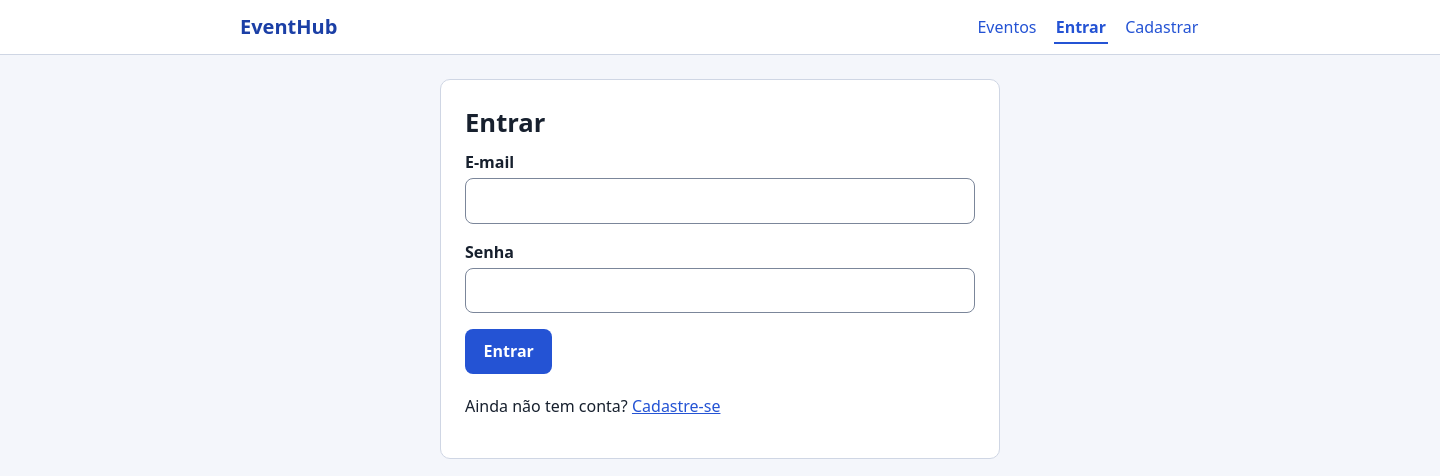
Test: Meus certificados › lista com o nome do evento (de Eventos, sem token), data de emissão e link do evento
Type "maria@example.com" into the field labelled "E-mail" at [720, 201], box [465,178,975,224]
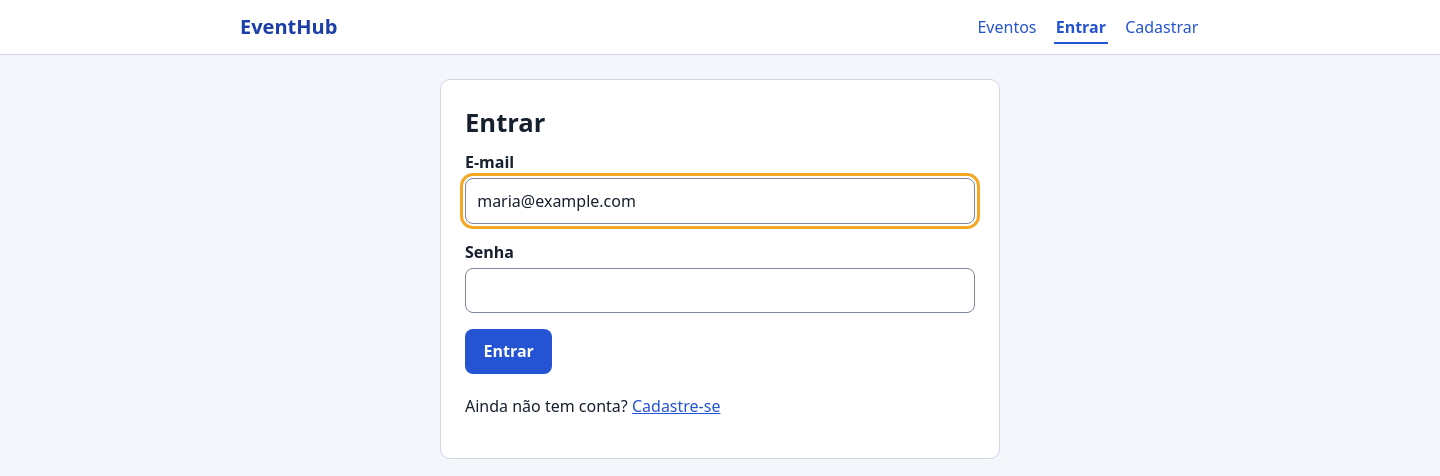
Type "senha-forte-123" into the password field labelled "Senha" at [720, 290], box [465,268,975,313]
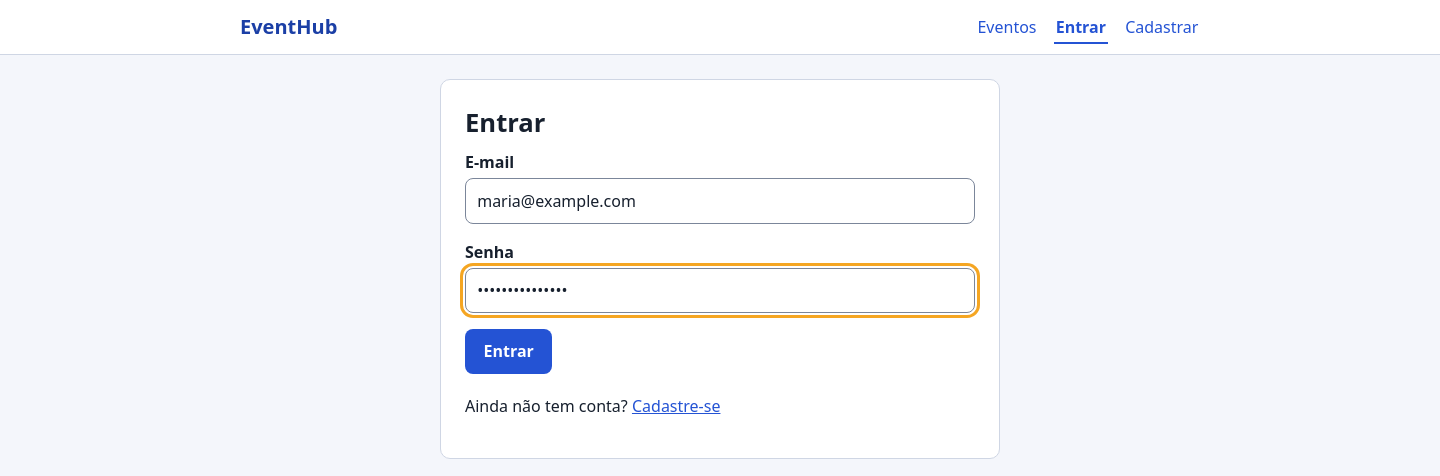
Click the button "Entrar" at [509, 351], box [465,329,552,374]
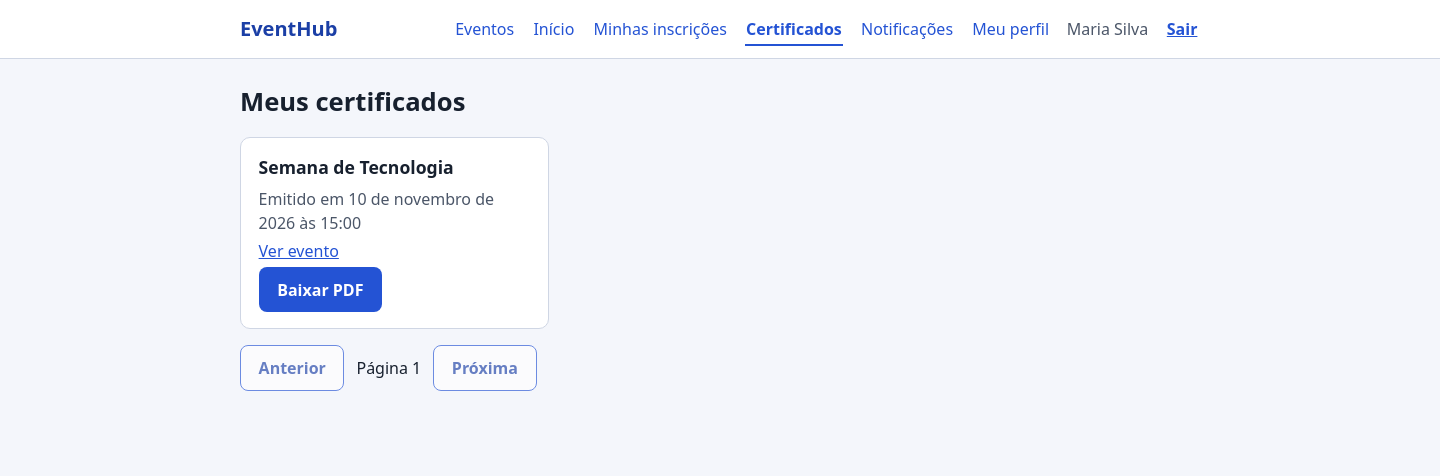
Expected: the heading "Semana de Tecnologia" is shown, [259,155,454,179]
Expected: the text "Emitido em 10 de novembro de 2026 às 15:00" is shown, [259,187,531,235]
